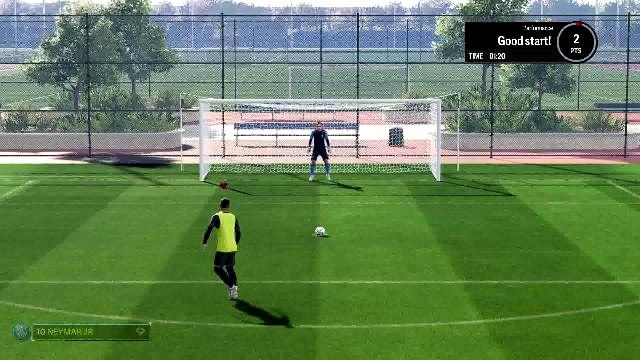bottom-left: (204, 144, 278, 180)
bottom-right: (359, 145, 436, 181)
center-down: (278, 144, 356, 180)
center-up: (280, 103, 360, 143)
football: (315, 226, 327, 236)
goalkeeper: (306, 120, 338, 182)
player: (198, 195, 246, 306)
top-left: (202, 103, 278, 144)
top-right: (358, 104, 434, 144)
